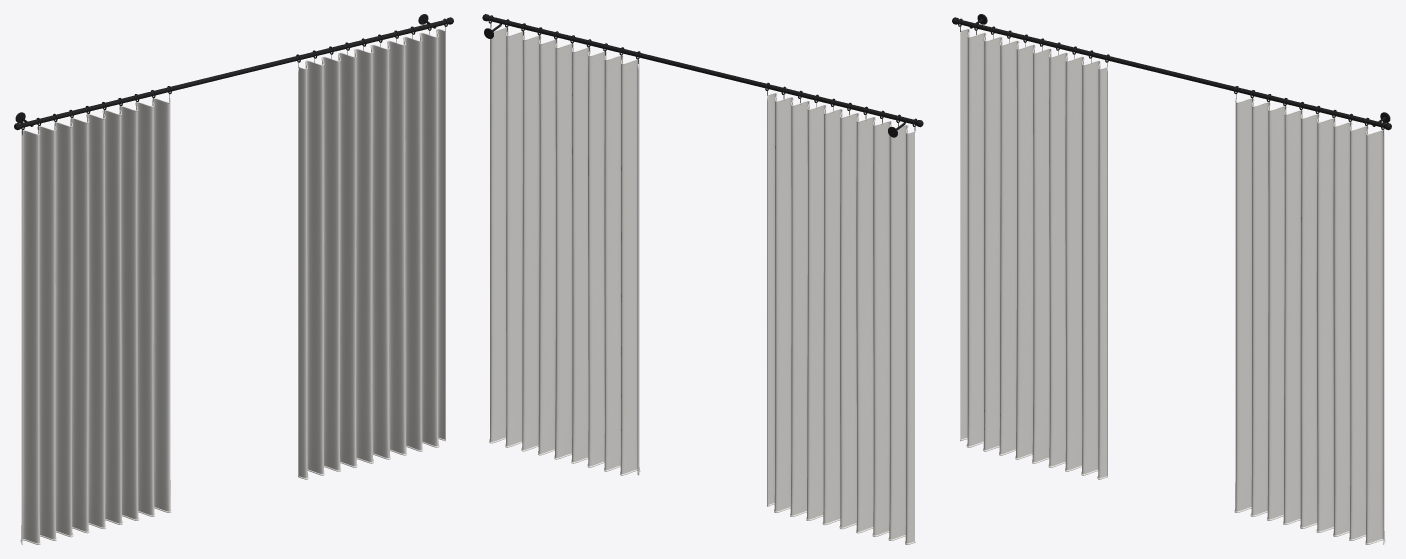
Rendered from cortina_onda_260_c70.glb.
The picture shows the model from 3 angles, left to right: view 1: azimuth 30°, elevation 25°; view 2: azimuth 150°, elevation 25°; view 3: azimuth 330°, elevation 25°; orthographic projection.
Parts seen in each view (by area): view 1: cortina_onda_260_c70; view 2: cortina_onda_260_c70; view 3: cortina_onda_260_c70.
Part boxes in pixels (bbox=[...]): cortina_onda_260_c70: bbox=[14, 14, 453, 544]; cortina_onda_260_c70: bbox=[482, 14, 923, 544]; cortina_onda_260_c70: bbox=[952, 14, 1391, 544].
Size of the model in its own units: 2.6 by 2.39 by 0.1784.
Materials: 2 (1 with a texture image).
